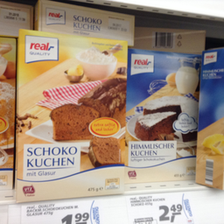cake: (12, 28, 127, 203), (127, 47, 201, 192)
